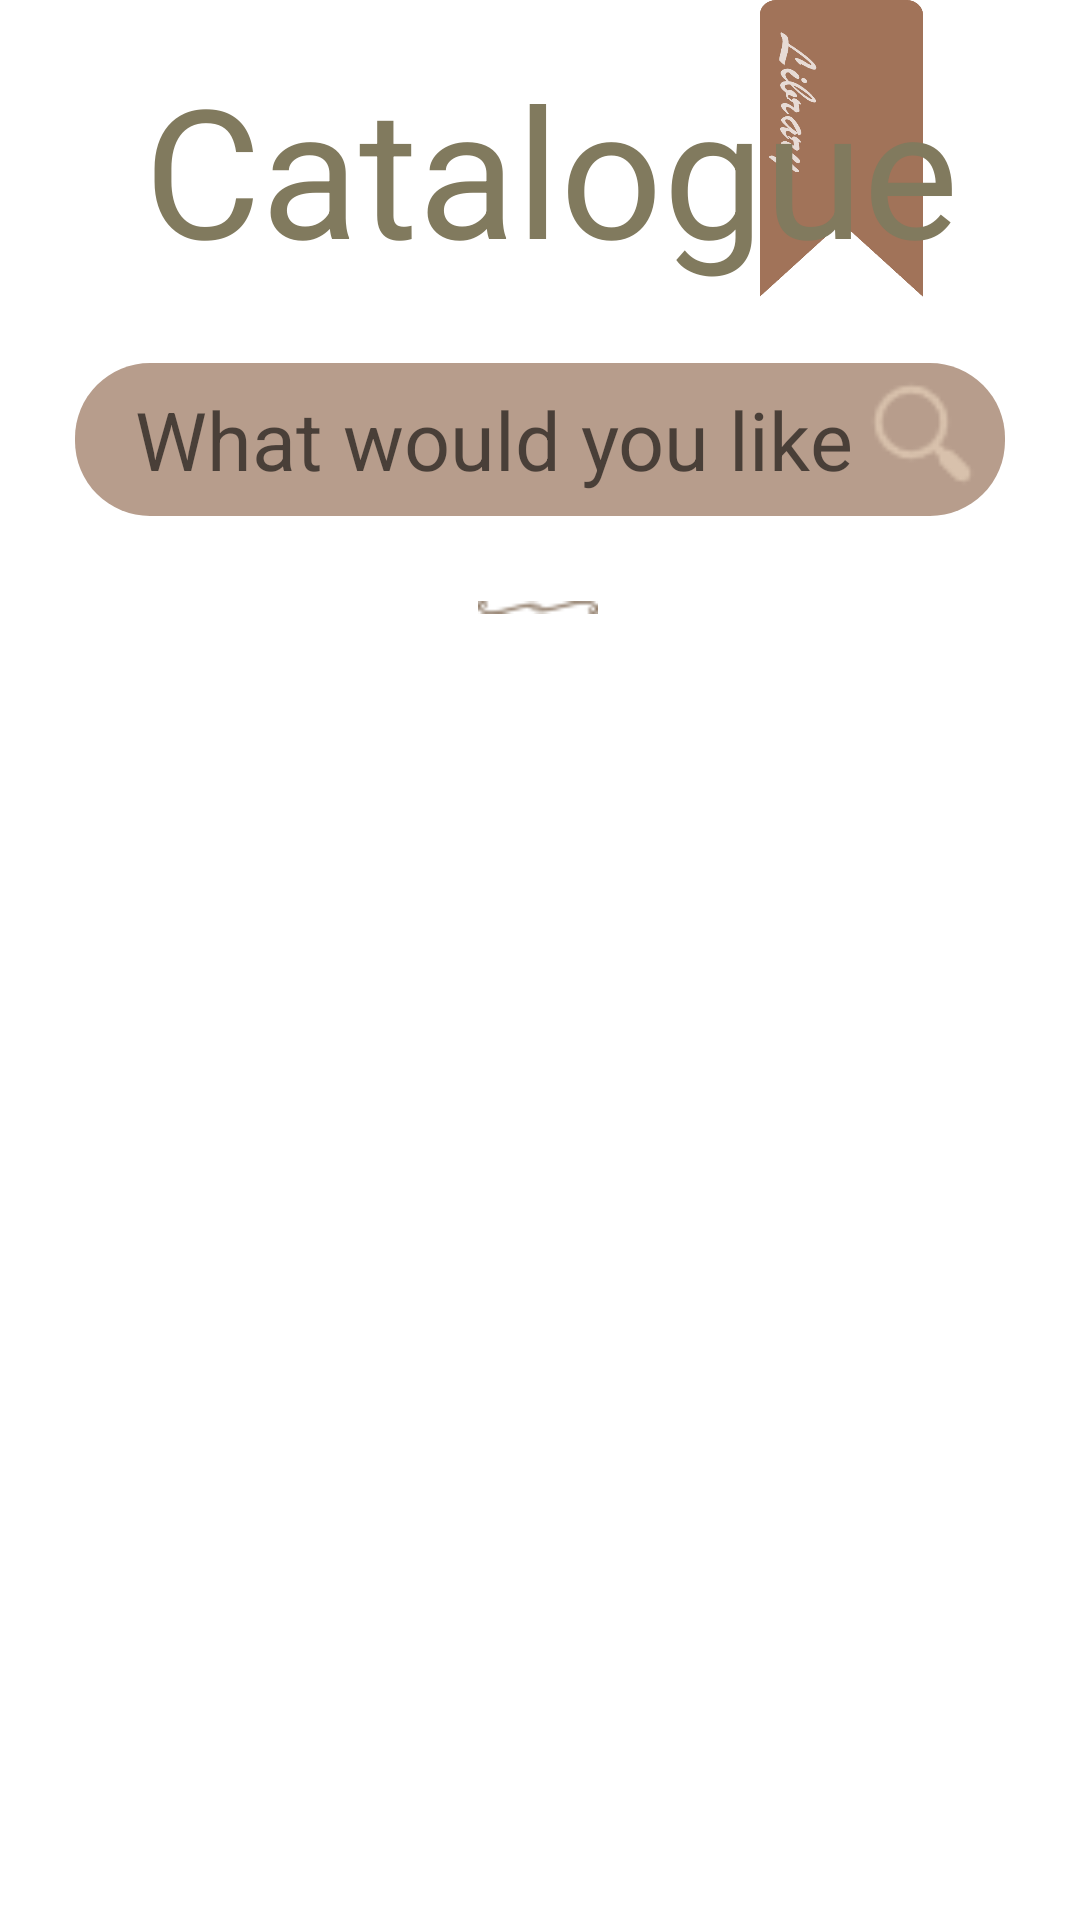

Where to tap for icons on this 1080 × 1920 app screen, as point (x, y):
Search button: point (922, 433)
